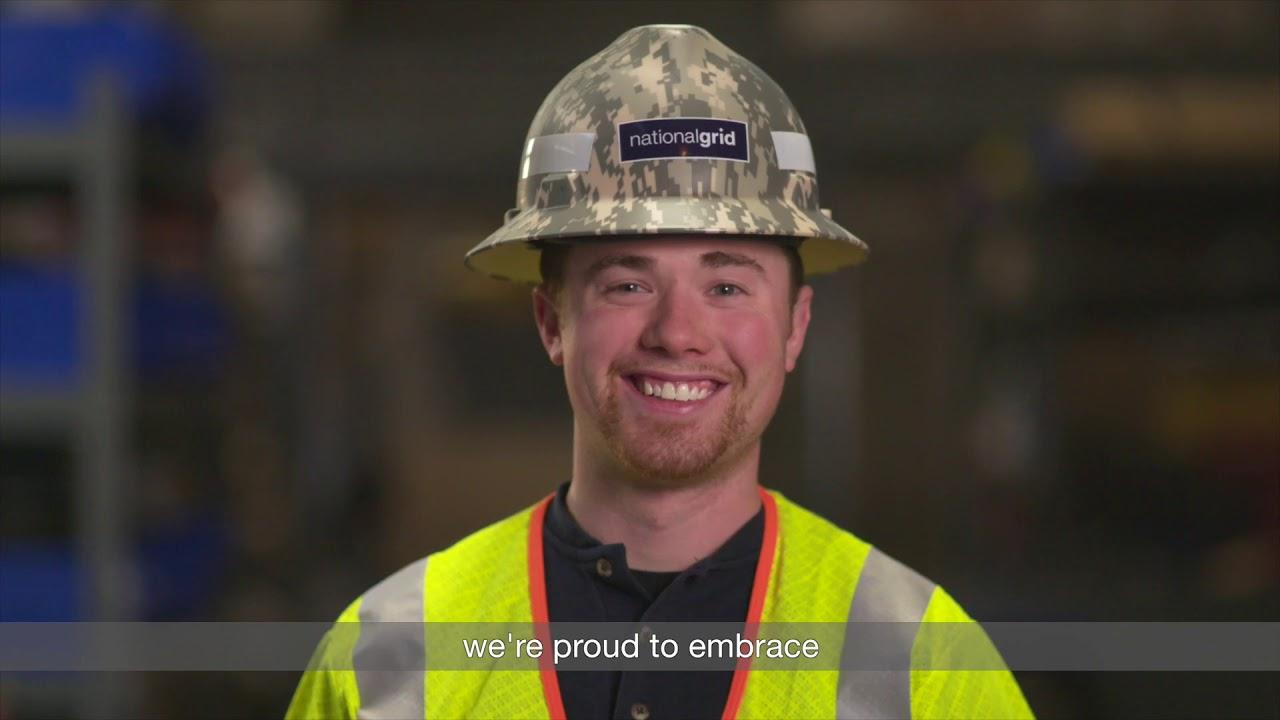helmet: (468, 21, 880, 285)
